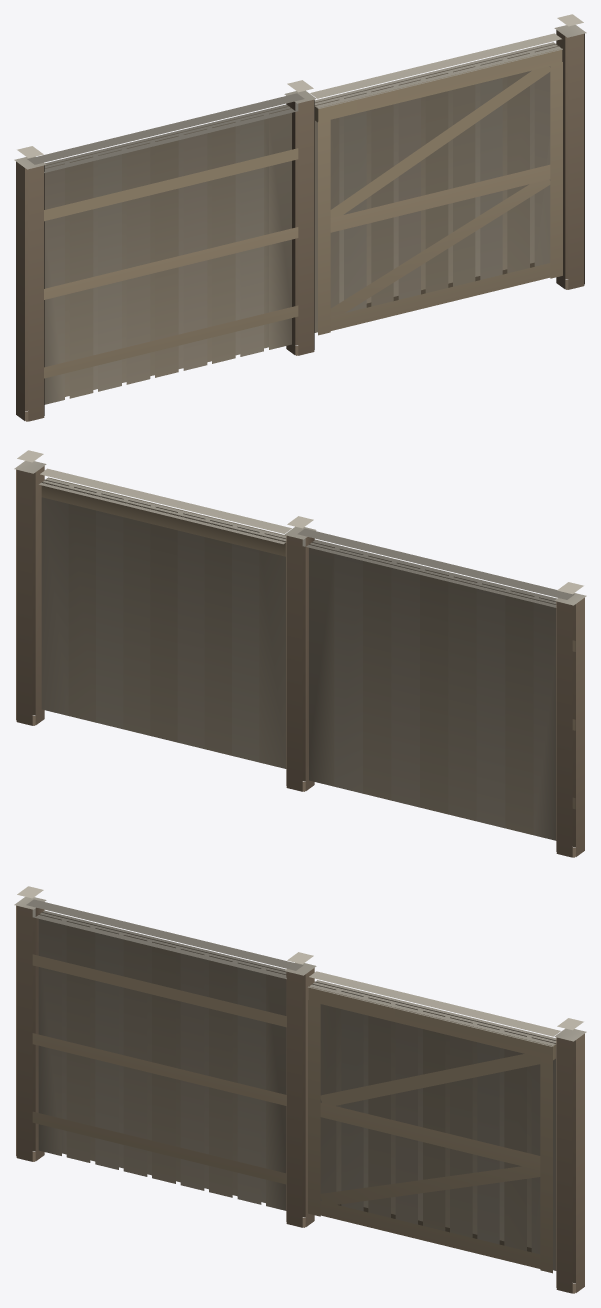
File: fence.lod.glb
3 renders of one model, top to bottom at view 1: azimuth 30°, elevation 25°; view 2: azimuth 150°, elevation 25°; view 3: azimuth 330°, elevation 25°, orthographic.
Parts seen in each view (by area): view 1: fence.001; view 2: fence.001; view 3: fence.001.
Boxes of the visible parts, x1,y1,x2,y2 form: fence.001: (14, 14, 586, 421); fence.001: (14, 450, 586, 857); fence.001: (14, 886, 586, 1293).
Bounding box in the file's own units: 4 × 1.8 × 0.164.
